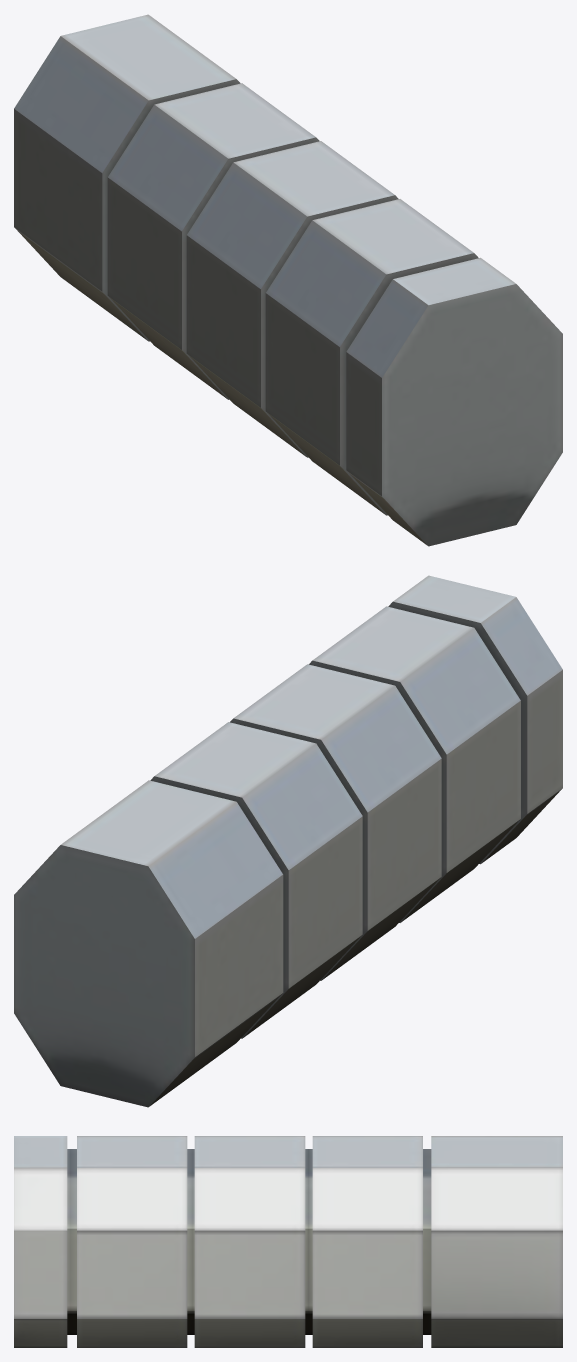
File: windpowergenerator_inside_2001_09.obj
3 renders of one model, top to bottom at view 1: azimuth 30°, elevation 25°; view 2: azimuth 150°, elevation 25°; view 3: azimuth 270°, elevation 25°, orthographic. The views are drawn at different scales.
Visible parts, largest first — view 1: pasted__pCube97; view 2: pasted__pCube97; view 3: pasted__pCube97.
Part boxes in pixels (bbox=[...]): pasted__pCube97: bbox=[14, 14, 562, 546]; pasted__pCube97: bbox=[14, 575, 562, 1107]; pasted__pCube97: bbox=[14, 1136, 562, 1347].
Bounding box in the file's own units: 92.61 × 118 × 326.
1 material, 1 textured.
